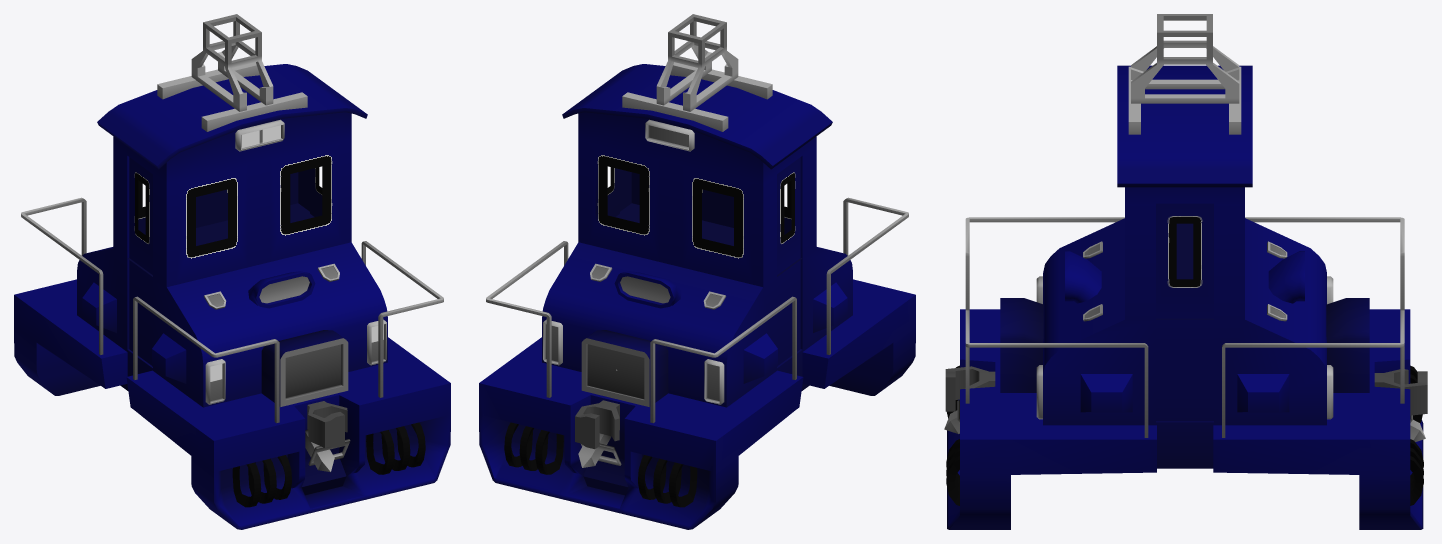
Rendered from DEKI.glb.
3 renders of one model, left to right at view 1: azimuth 30°, elevation 25°; view 2: azimuth 150°, elevation 25°; view 3: azimuth 270°, elevation 25°, orthographic. The views are drawn at different scales.
Parts seen in each view (by area): view 1: yane1; view 2: yane1, H_OBJ; view 3: yane1.
Boxes of the visible parts, x1,y1,x2,y2 form: yane1: (14, 14, 450, 529); yane1: (479, 14, 915, 529); H_OBJ: (587, 344, 644, 398); yane1: (944, 14, 1427, 529).
Bounding box in the file's own units: 5.75 × 9.32 × 9.02.
Materials: 9 (8 with a texture image).
